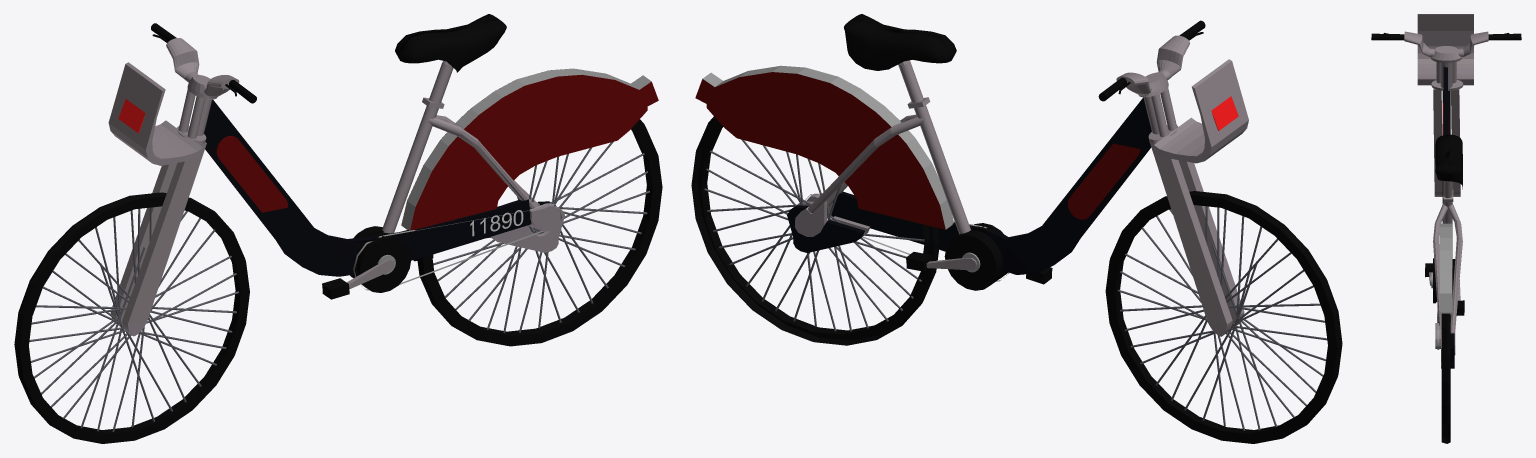
File: bike2.DAE
3 renders of one model, left to right at view 1: azimuth 30°, elevation 25°; view 2: azimuth 150°, elevation 25°; view 3: azimuth 270°, elevation 25°, orthographic. The views are drawn at different scales.
Parts seen in each view (by area): view 1: Line004, Rectangle001; view 2: Line004, Rectangle002; view 3: Line004.
Part boxes in pixels (<box>): Line004: <box>14,14,662,443</box>; Rectangle001: <box>216,136,287,212</box>; Line004: <box>691,14,1342,443</box>; Rectangle002: <box>1068,143,1140,219</box>; Line004: <box>1371,14,1521,443</box>.
Size of the model in its own units: 135 by 73.18 by 35.89.
